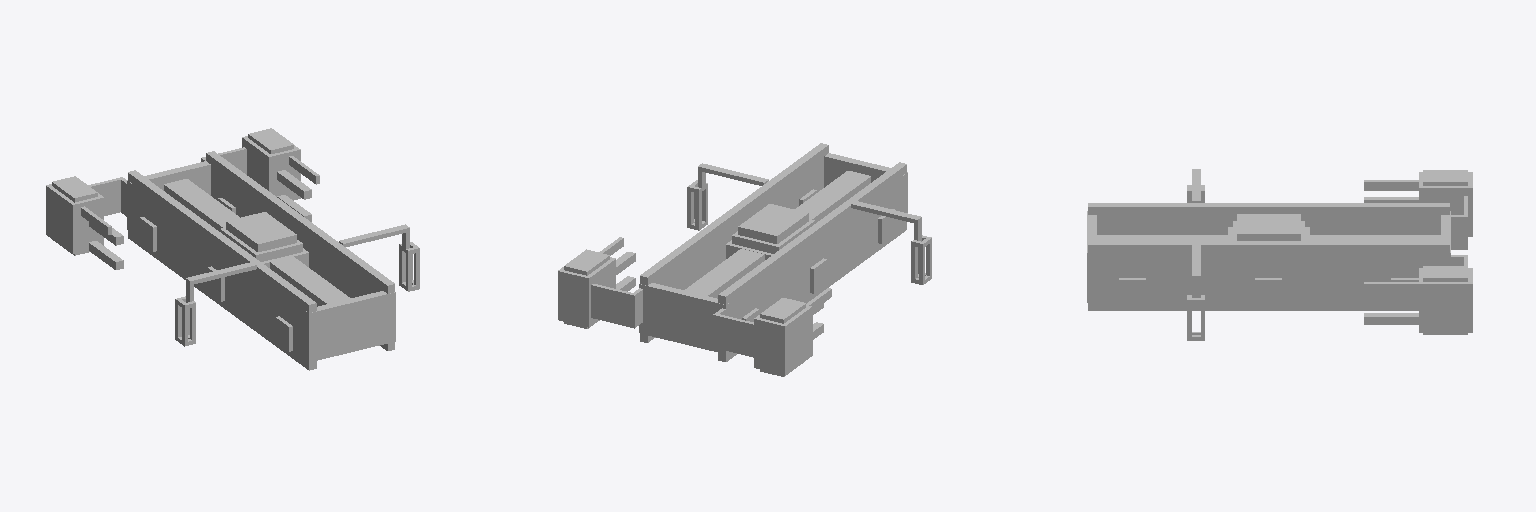
File: frame.obj
The picture shows the model from 3 angles: view 1: azimuth 30°, elevation 25°; view 2: azimuth 150°, elevation 25°; view 3: azimuth 270°, elevation 25°; orthographic projection.
Parts seen in each view (by area): view 1: cube.386; view 2: cube.386; view 3: cube.386.
Boxes of the visible parts, box(x1,y1,x2,y2) form: cube.386: box(46, 128, 419, 370); cube.386: box(558, 143, 931, 376); cube.386: box(1087, 169, 1472, 340).
Bounding box in the file's own units: 3.75 × 1.02 × 5.32.